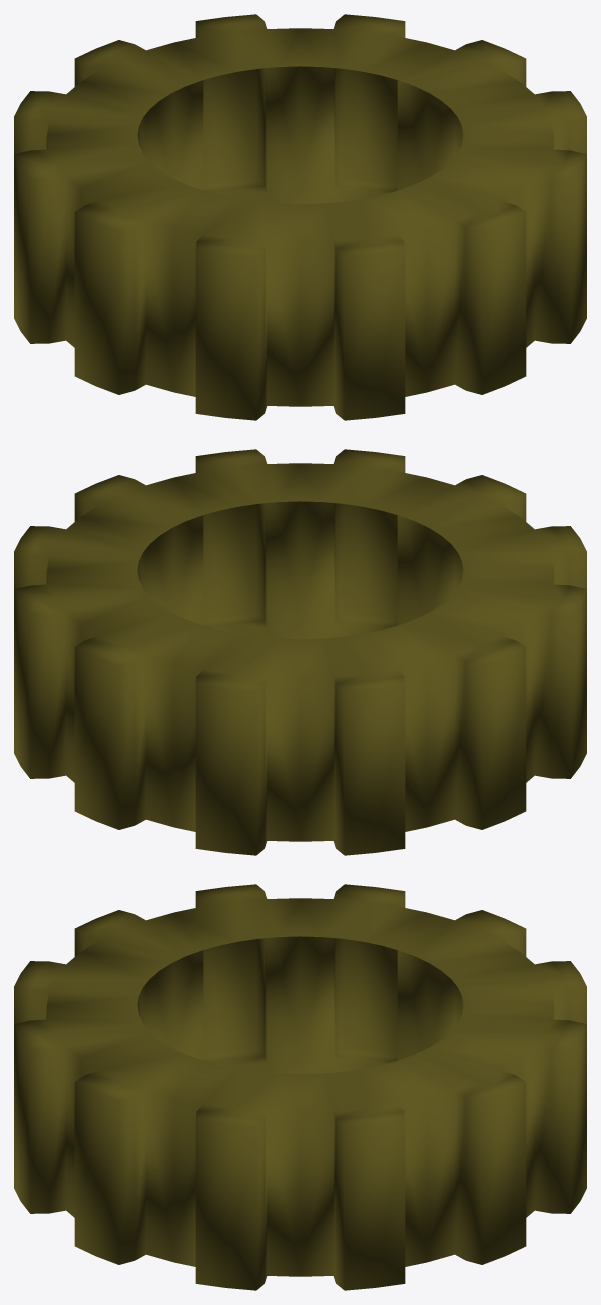
The model's file is gear.obj.
The picture shows the model from 3 angles, top to bottom: view 1: azimuth 30°, elevation 25°; view 2: azimuth 150°, elevation 25°; view 3: azimuth 270°, elevation 25°; orthographic projection.
Visible parts, largest first — view 1: gear; view 2: gear; view 3: gear.
Part boxes in pixels (left/top/right/bottom): gear: left=14, top=14, right=586, bottom=420; gear: left=14, top=449, right=586, bottom=855; gear: left=14, top=884, right=586, bottom=1290.
Bounding box in the file's own units: 3.16 × 1 × 3.16.
